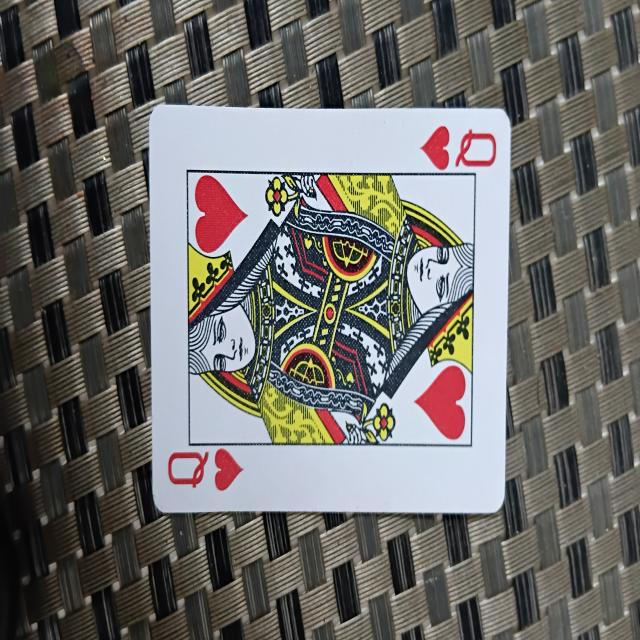QH: (150, 100, 513, 518)
